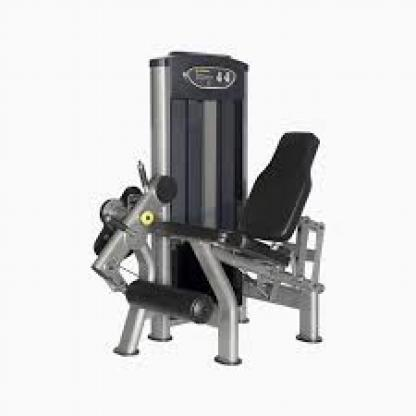leg extension: (80, 41, 333, 379)
